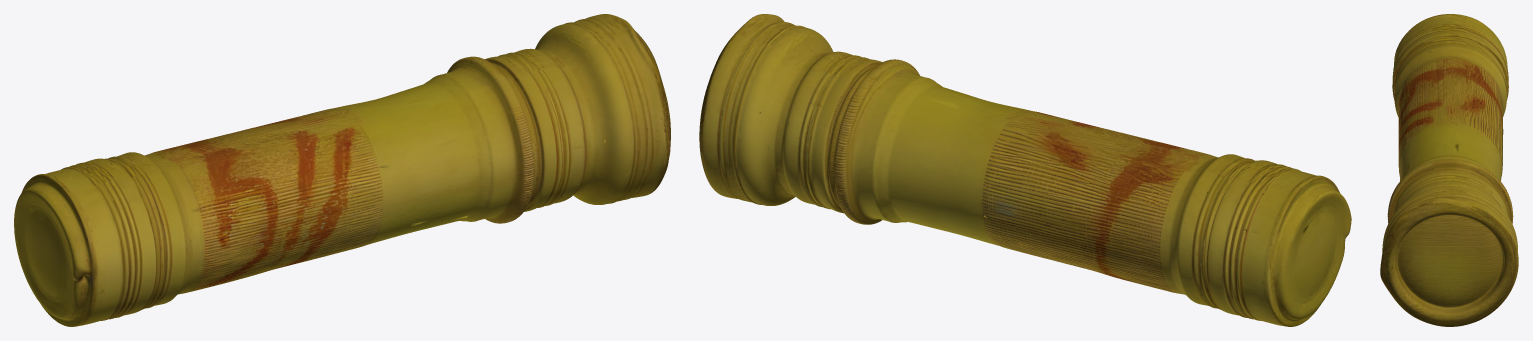
3 renders of one model, left to right at view 1: azimuth 30°, elevation 25°; view 2: azimuth 150°, elevation 25°; view 3: azimuth 270°, elevation 25°, orthographic. The views are drawn at different scales.
Parts seen in each view (by area): view 1: node_0; view 2: node_0; view 3: node_0.
Part boxes in pixels (x1,y1,x2,y2): node_0: (14, 14, 670, 326); node_0: (699, 14, 1351, 326); node_0: (1380, 14, 1518, 326).
Size of the model in its own units: 1.17 by 0.3262 by 0.3225.
1 material, 1 textured.
